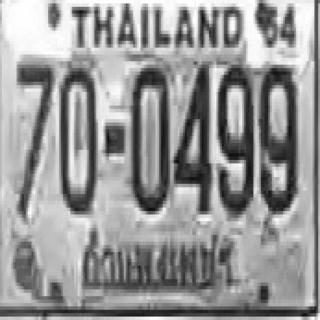N00: (130, 63, 168, 210), (59, 61, 96, 211)
N04: (173, 60, 210, 209)
N07: (15, 58, 54, 214)
N09: (259, 61, 296, 211), (216, 63, 252, 213)
P16: (73, 227, 239, 296)
